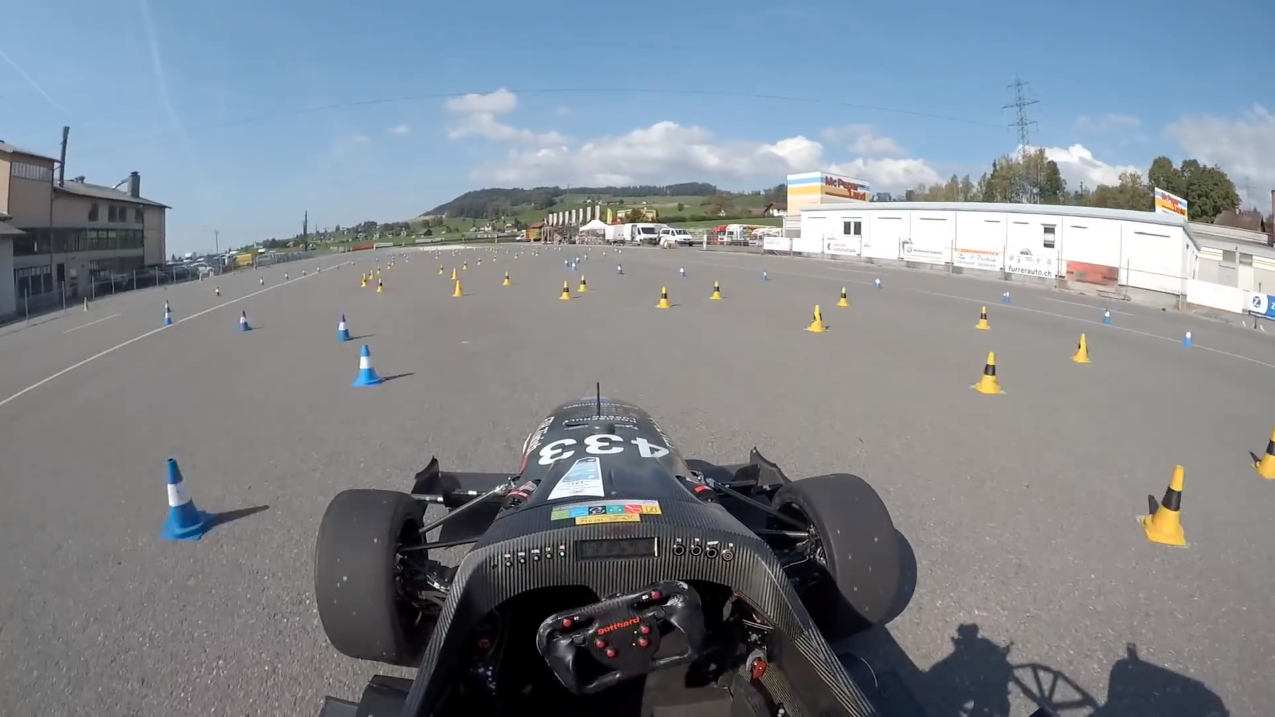lcone: (144, 453, 223, 546), (348, 339, 389, 390), (331, 311, 355, 346), (236, 309, 255, 335)
rcone: (1133, 461, 1201, 550), (971, 344, 1010, 397), (1069, 333, 1097, 368), (801, 300, 830, 333), (972, 304, 996, 333), (654, 282, 675, 311), (835, 285, 854, 308), (708, 279, 724, 301)
